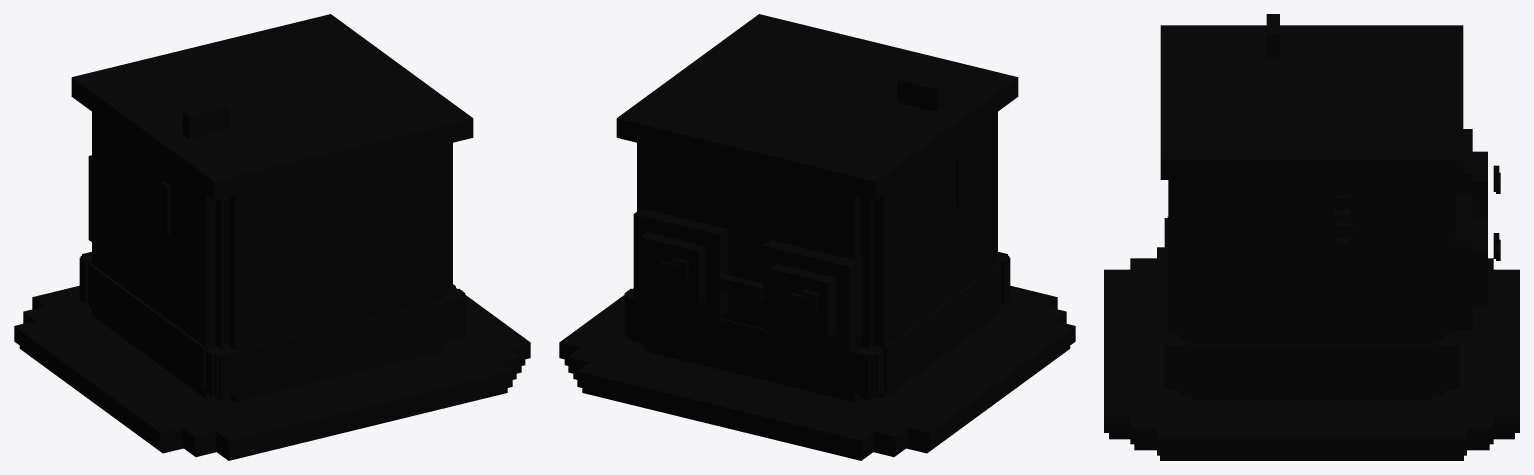
File: hat_steam_topper.obj
3 views of the same model, side by side, from view 1: azimuth 30°, elevation 25°; view 2: azimuth 150°, elevation 25°; view 3: azimuth 270°, elevation 25° (orthographic). The views are drawn at different scales.
Bounding box in the file's own units: 0.75 × 0.545 × 0.6875.
